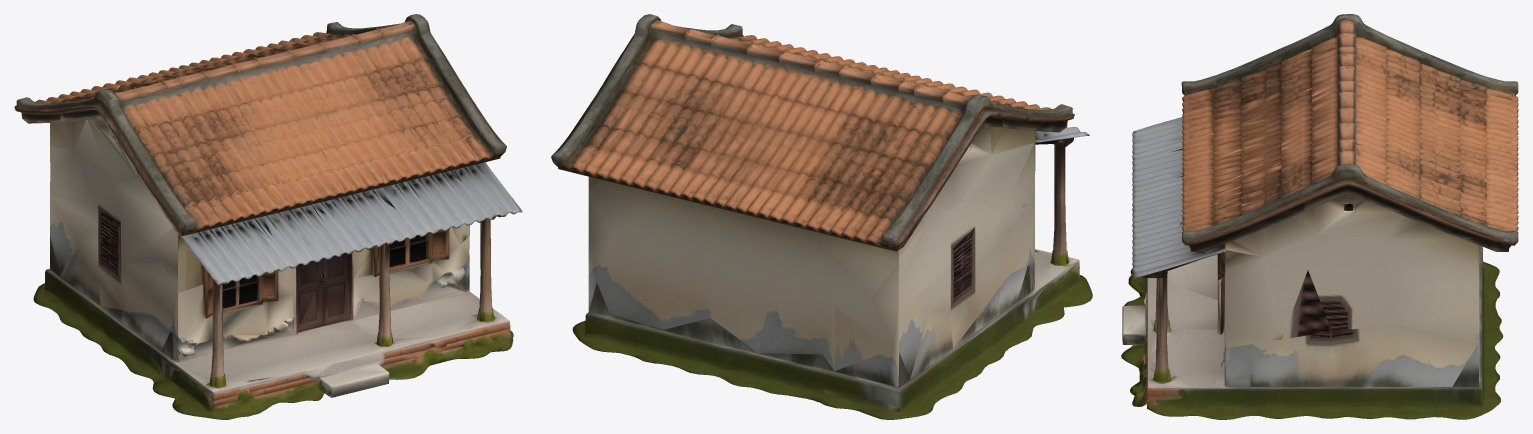
The model's file is NhaQue_Tencent_01.fbx.
3 renders of one model, left to right at view 1: azimuth 30°, elevation 25°; view 2: azimuth 150°, elevation 25°; view 3: azimuth 270°, elevation 25°, orthographic. The views are drawn at different scales.
Parts seen in each view (by area): view 1: Nha01_LOD0; view 2: Nha01_LOD0; view 3: Nha01_LOD0.
Part boxes in pixels (x1=…): Nha01_LOD0: x1=14, y1=14, x2=522, y2=419; Nha01_LOD0: x1=551, y1=14, x2=1092, y2=419; Nha01_LOD0: x1=1121, y1=14, x2=1518, y2=419.
Size of what is drawn, in the model's own units: 7.2 by 5.07 by 7.34.
